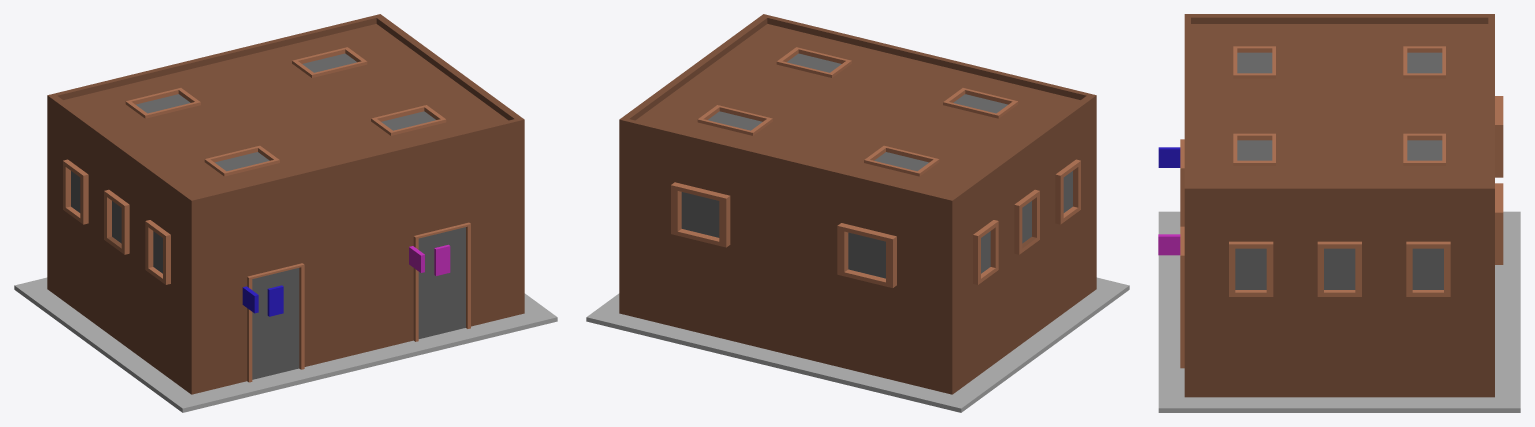
Rendered from ParkToilet.fbx.
The picture shows the model from 3 angles, left to right: view 1: azimuth 30°, elevation 25°; view 2: azimuth 150°, elevation 25°; view 3: azimuth 270°, elevation 25°; orthographic projection. The views are drawn at different scales.
Visible parts, largest first — view 1: Cube, Cube.003; view 2: Cube, Cube.003; view 3: Cube, Cube.003, Cube.002, Cube.001.
Part boxes in pixels (x1,y1,x2,y2): Cube: (47,14,524,394); Cube.003: (14,277,557,412); Cube: (619,14,1096,394); Cube.003: (586,277,1129,412); Cube: (1180,14,1503,397); Cube.003: (1158,211,1520,412); Cube.002: (1158,234,1180,255); Cube.001: (1158,147,1180,167).
Bounding box in the file's own units: 900 × 455 × 701.
